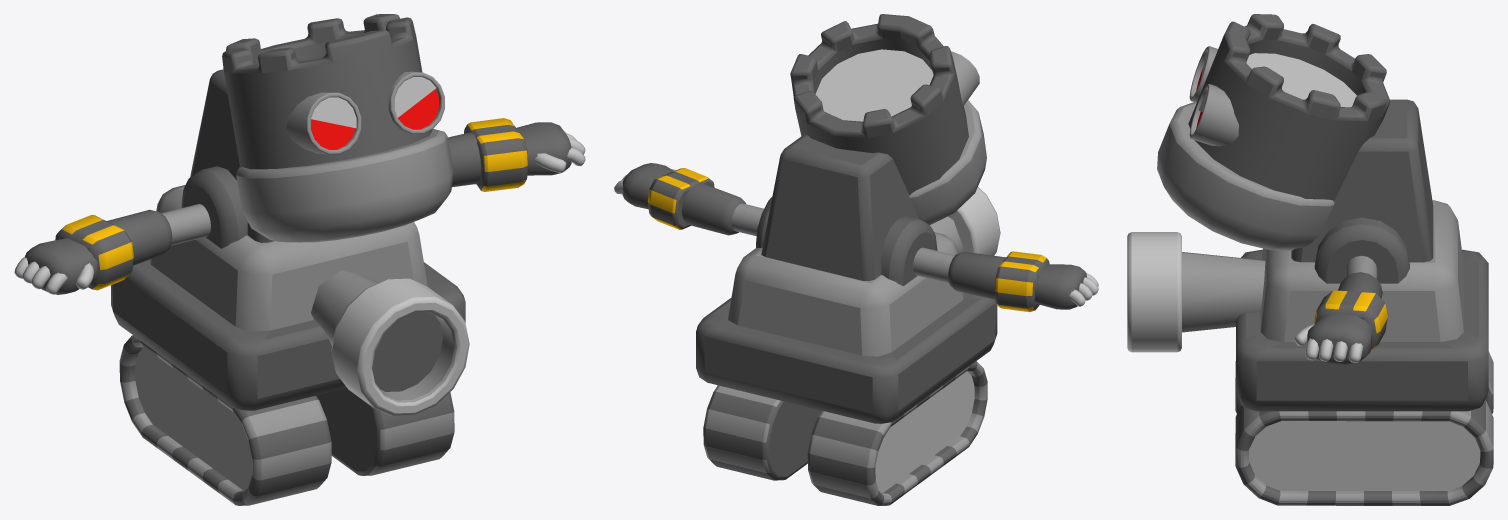
File: enemy-001.fbx
3 renders of one model, left to right at view 1: azimuth 30°, elevation 25°; view 2: azimuth 150°, elevation 25°; view 3: azimuth 270°, elevation 25°, orthographic. The views are drawn at different scales.
Parts seen in each view (by area): view 1: enemy-001; view 2: enemy-001; view 3: enemy-001.
Part boxes in pixels (x1,y1,x2,y2): enemy-001: [14, 14, 585, 505]; enemy-001: [614, 14, 1098, 505]; enemy-001: [1127, 14, 1493, 505].
Bounding box in the file's own units: 9.61 × 7.71 × 5.95.
